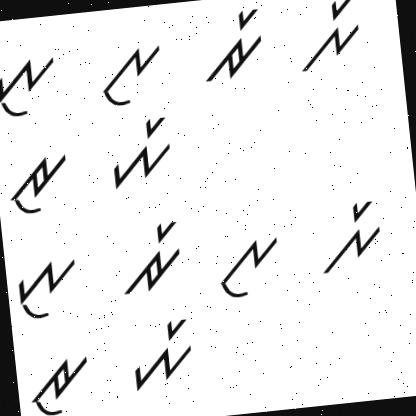lar: (312, 192, 390, 282), (289, 0, 370, 79)
law: (93, 40, 170, 112), (214, 230, 288, 302)
rar: (112, 214, 192, 300), (194, 4, 271, 87)
raw: (0, 146, 75, 220), (21, 345, 97, 416)
yar: (120, 315, 201, 395), (101, 109, 176, 191)
yaw: (13, 250, 86, 325), (0, 46, 66, 124)
